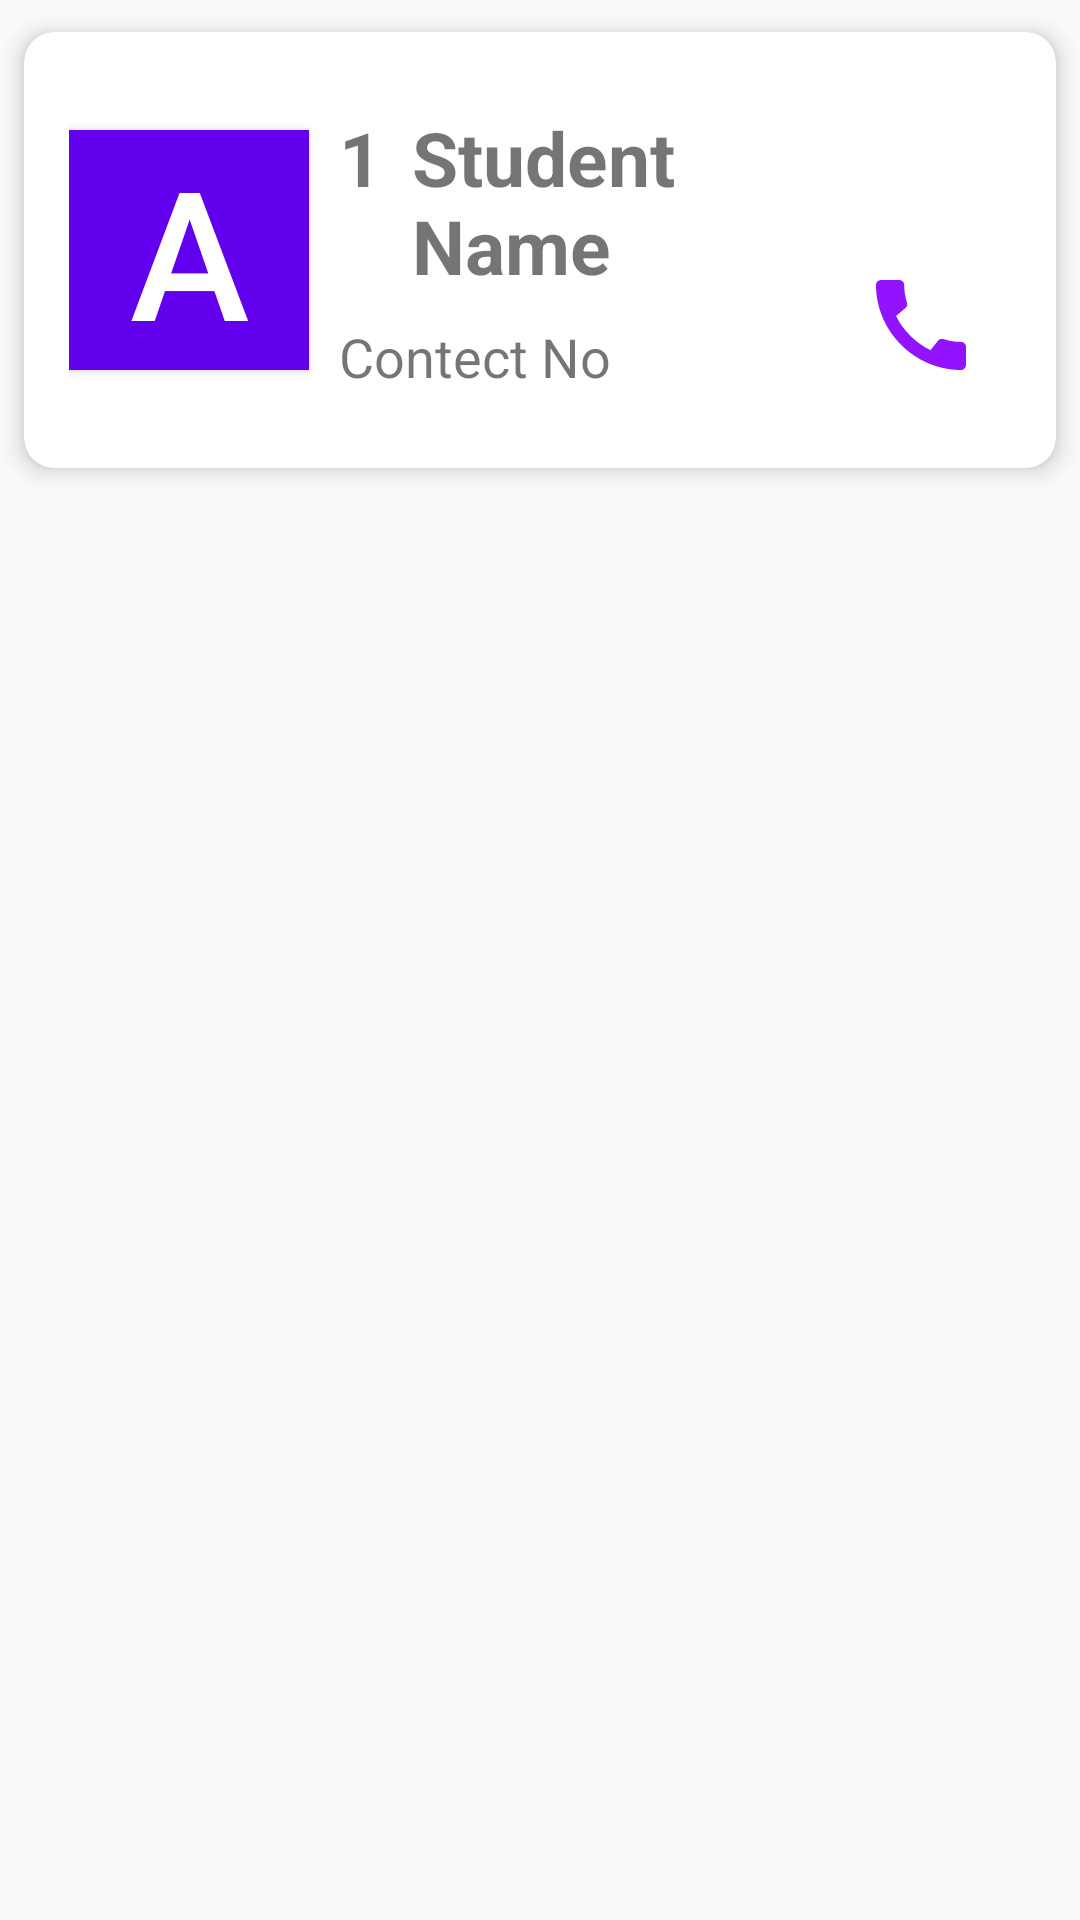

Named icons in this screenshot (1080 × 1920) and their centers, point (x, y):
call: point (921, 325)
